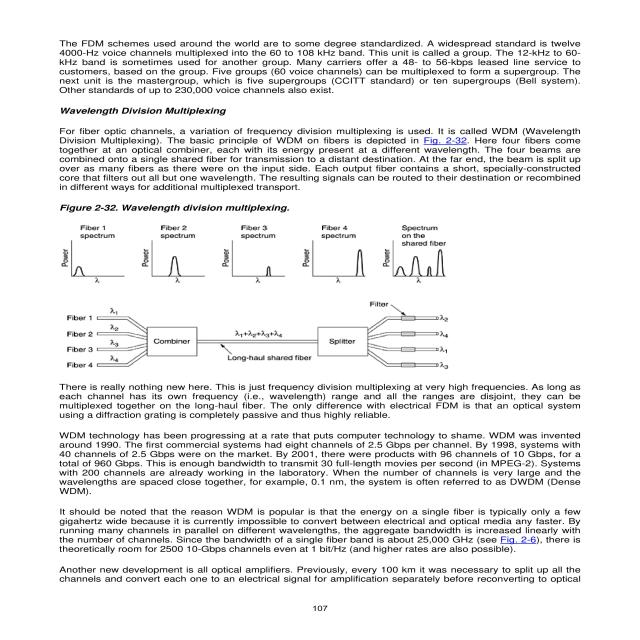diagram: (44, 198, 476, 374)
